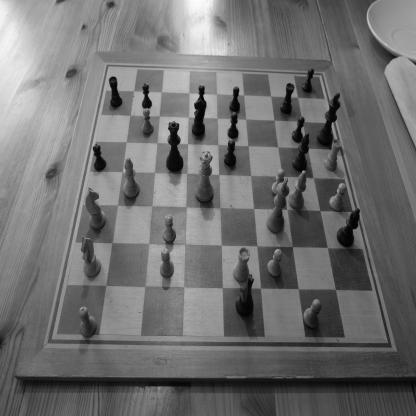black-bishop: (336, 208, 361, 248), (292, 132, 310, 172)
black-king: (316, 92, 340, 146)
black-knight: (236, 273, 254, 318), (192, 96, 206, 136)
black-pawn: (92, 144, 107, 170), (292, 116, 305, 143), (224, 140, 236, 168), (301, 68, 314, 93), (227, 112, 239, 139), (229, 86, 241, 112), (141, 83, 152, 109), (196, 84, 207, 110)
black-queen: (166, 121, 184, 172)
black-rook: (280, 82, 295, 115), (108, 76, 123, 108)
white-bishop: (123, 156, 140, 199), (288, 170, 306, 210)
white-king: (266, 176, 290, 234)
white-knight: (80, 235, 102, 278), (85, 187, 106, 230)
white-pawn: (78, 306, 98, 338), (303, 299, 322, 329), (328, 182, 346, 212), (267, 248, 283, 278), (160, 248, 174, 278), (271, 168, 285, 196), (163, 214, 176, 243), (142, 108, 154, 135)
white-queen: (195, 151, 214, 203)
white-rook: (323, 138, 342, 171), (233, 246, 250, 282)
